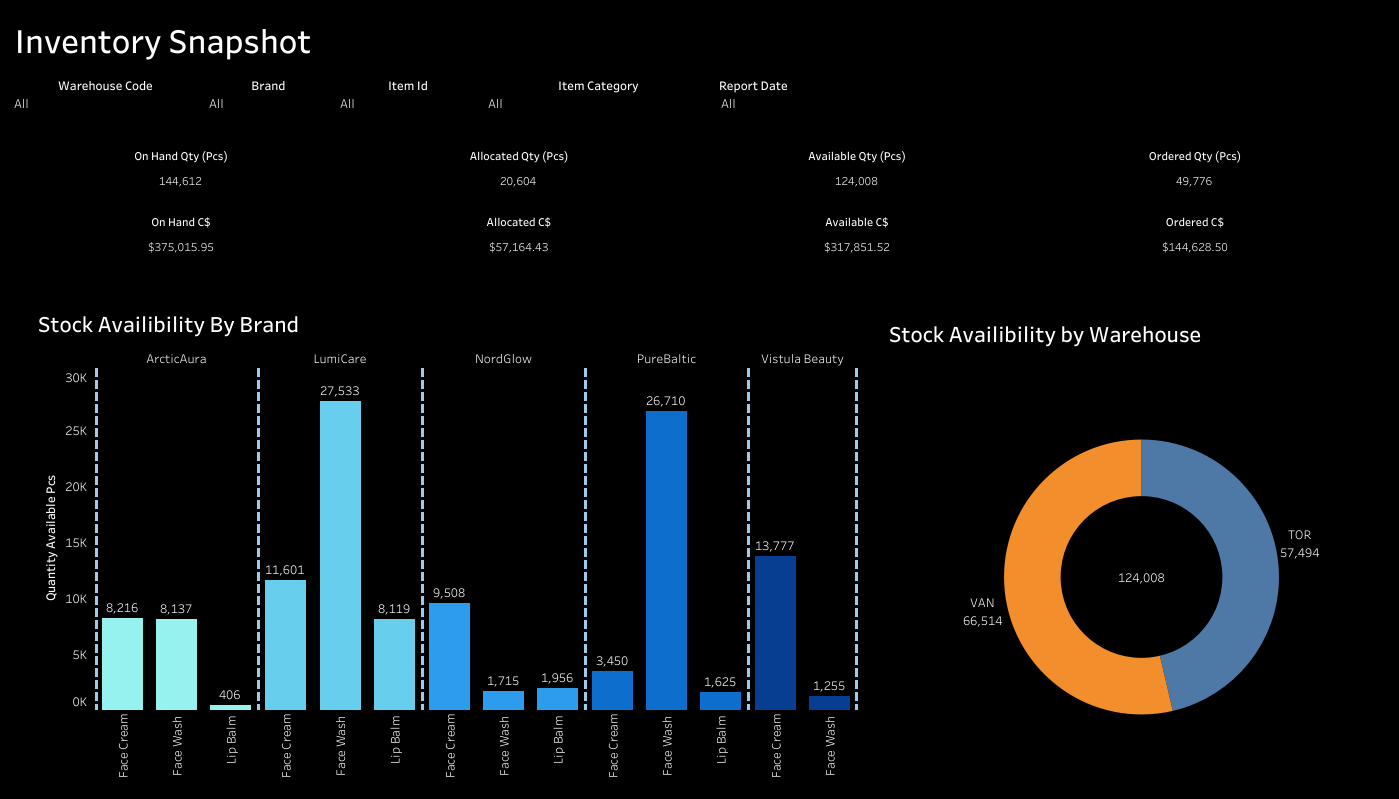

The dashboard page shown, as its layout file describes it:
{"tool":"tableau","page":{"name":"Inventory Snapshot","canvas":[1400,800],"ordinal":0},"visuals":[{"type":"title","box":[8,8,1384,63]},{"type":"filter","title":"Stock Availibility by Warehouse","param":"[federated.1t9z2zp1pnyqdn11z5wcp0dh8j59].[none:WAREHOUSE_CODE:nk]","box":[8,71,195,64]},{"type":"filter","title":"Stock Availibility By Brand","param":"[federated.1t9z2zp1pnyqdn11z5wcp0dh8j59].[none:ITEM_BRAND:nk]","box":[203,71,131,64]},{"type":"filter","title":"Stock Availibility By Brand","param":"[federated.1t9z2zp1pnyqdn11z5wcp0dh8j59].[none:ITEM_ID:nk]","box":[334,71,148,64]},{"type":"filter","title":"Stock Availibility By Brand","param":"[federated.1t9z2zp1pnyqdn11z5wcp0dh8j59].[none:ITEM_CATEGORY:nk]","box":[482,71,233,64]},{"type":"filter","title":"Stock Availibility by Warehouse","param":"[federated.1t9z2zp1pnyqdn11z5wcp0dh8j59].[tdy:REPORT_DATE:ok]","box":[715,71,328,64]},{"type":"worksheet","title":"Quantity","mark":"Automatic","box":[8,135,1384,66]},{"type":"worksheet","title":"Stock Valuation","mark":"Automatic","box":[8,201,1384,591]},{"type":"worksheet","title":"Stock Availibility By Brand","mark":"Automatic","rows":["QUANTITY_AVAILABLE_PCS"],"cols":["ITEM_BRAND","ITEM_CATEGORY"],"box":[33,303,826,478]},{"type":"worksheet","title":"Stock Availibility by Warehouse","mark":"Pie","rows":["Calculation_2154972473355624457","Calculation_2154972473355624457"],"box":[885,313,513,484]}]}

Visuals, with their boxes in screenshot pixels (x1, y1, x2, y2), scaled from the page's 1400x800 canvas onto the 1399x799 screenshot:
title: 8/8/1391/71
"Stock Availibility by Warehouse" filter: 8/71/203/135
"Stock Availibility By Brand" filter: 203/71/334/135
"Stock Availibility By Brand" filter: 334/71/482/135
"Stock Availibility By Brand" filter: 482/71/714/135
"Stock Availibility by Warehouse" filter: 714/71/1042/135
"Quantity" worksheet: 8/135/1391/201
"Stock Valuation" worksheet: 8/201/1391/791
"Stock Availibility By Brand" worksheet: 33/303/858/780
"Stock Availibility by Warehouse" worksheet (Pie marks): 884/313/1397/796
